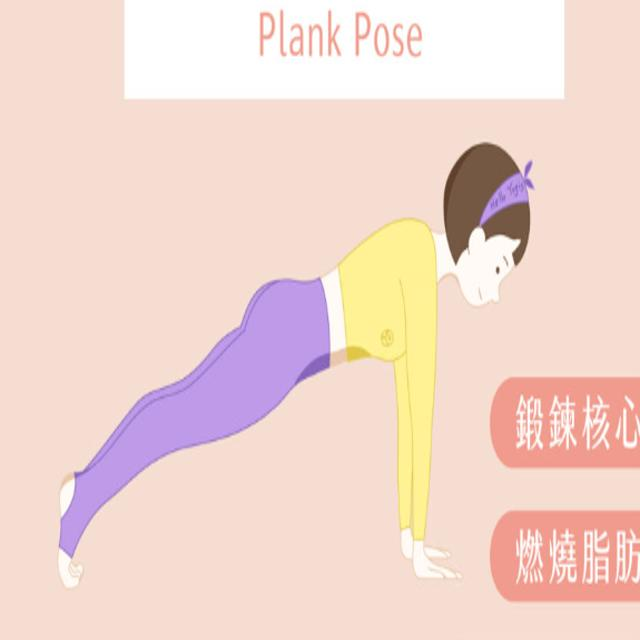Plank_Pose: (37, 130, 548, 603)
